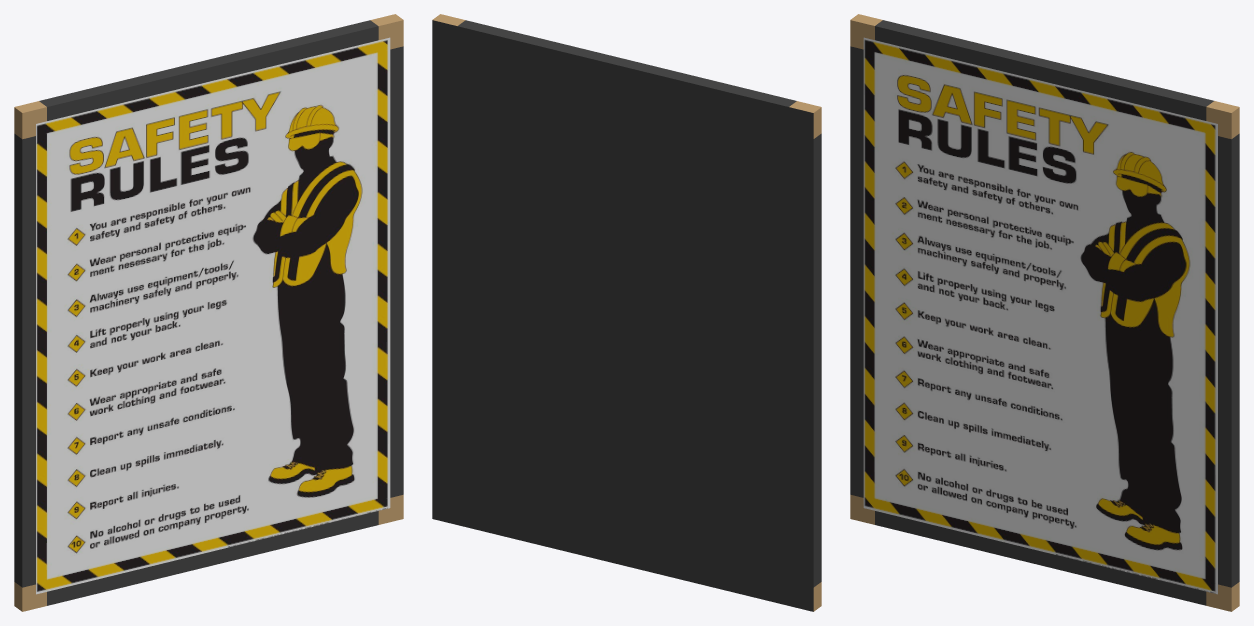
File: 3D004_Office_Poster04.FBX
The picture shows the model from 3 angles, left to right: view 1: azimuth 30°, elevation 25°; view 2: azimuth 150°, elevation 25°; view 3: azimuth 330°, elevation 25°; orthographic projection.
Parts seen in each view (by area): view 1: 3D004_Office_Poster04; view 2: 3D004_Office_Poster04; view 3: 3D004_Office_Poster04.
Part boxes in pixels (x1,y1,x2,y2): 3D004_Office_Poster04: (14,14,403,611); 3D004_Office_Poster04: (432,14,821,611); 3D004_Office_Poster04: (850,14,1239,611).
Bounding box in the file's own units: 80 × 100 × 3.
